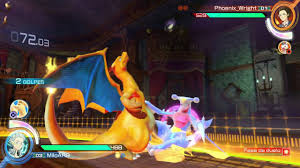charizard: (40, 50, 152, 155)
